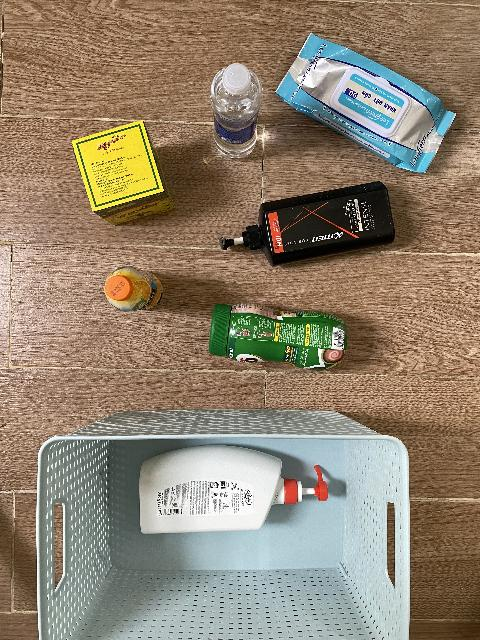Let-green_alcohol_wipes: (275, 32, 458, 174)
X-men: (219, 181, 395, 267)
aquafina: (209, 63, 263, 159)
cart: (36, 409, 410, 640)
life-buoy: (139, 445, 328, 534)
luong_kho: (72, 120, 175, 227)
milo: (208, 303, 347, 370)
teppy_orange_juice: (104, 266, 163, 312)
